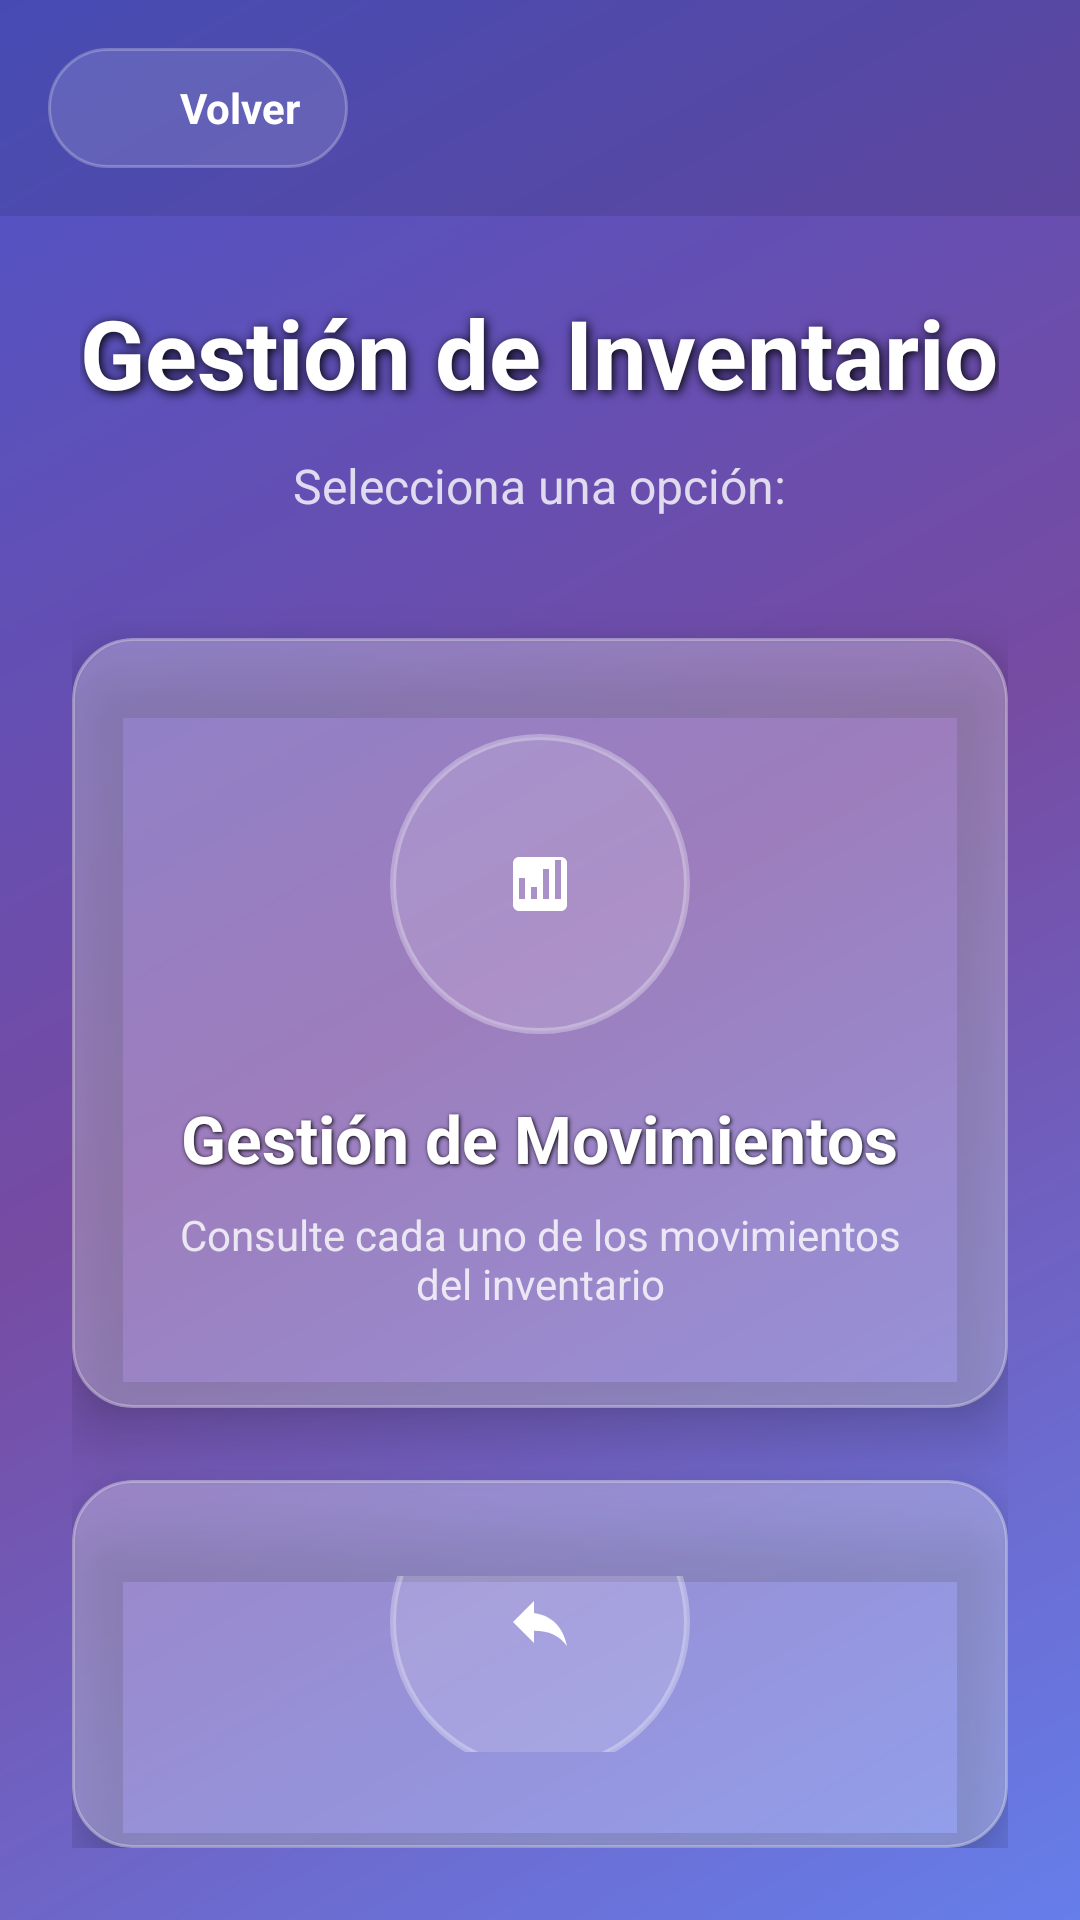

Where to tap for icons on this 1080 × 1920 app screen, as [x,y]:
reply: [540,1623]
stats: [540,884]
